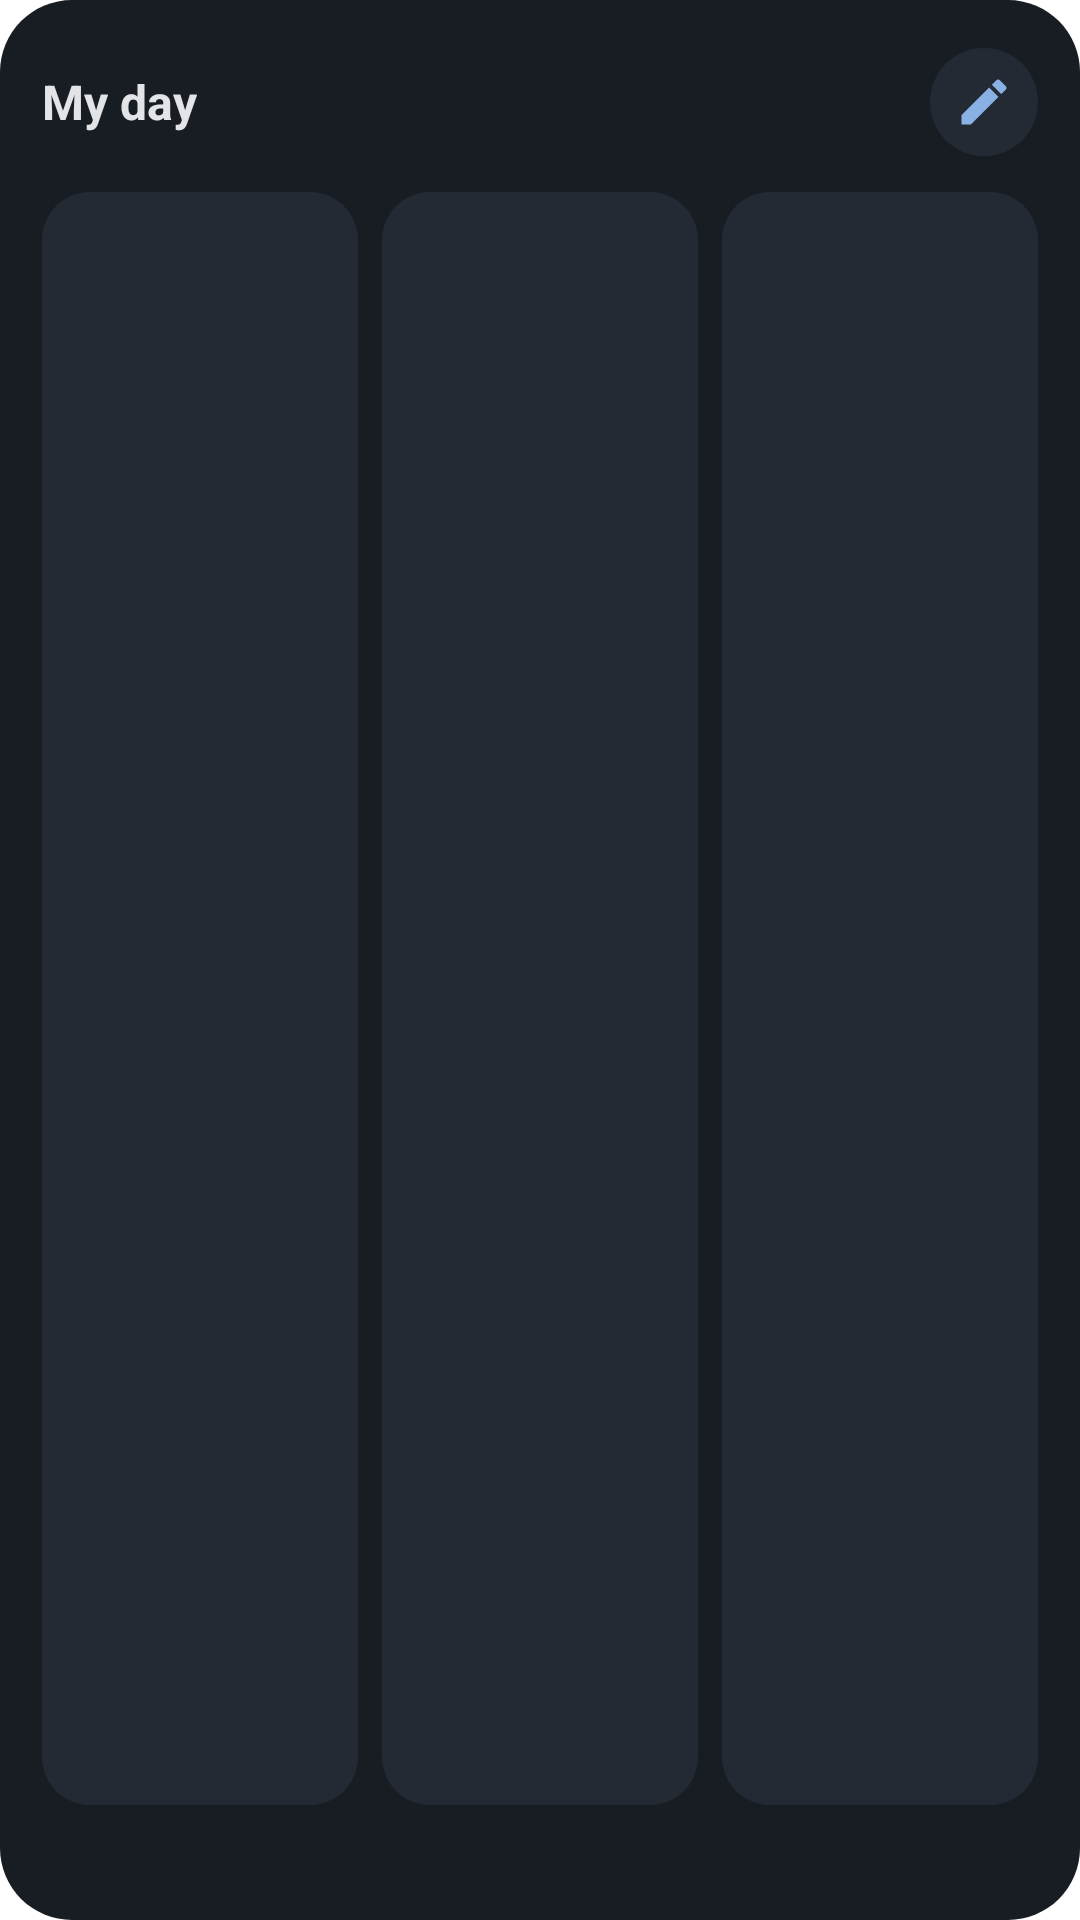

Screen size 1080 × 1920. Icon name, then its center in pixels as point (x, y):
Compose: point (984, 102)
